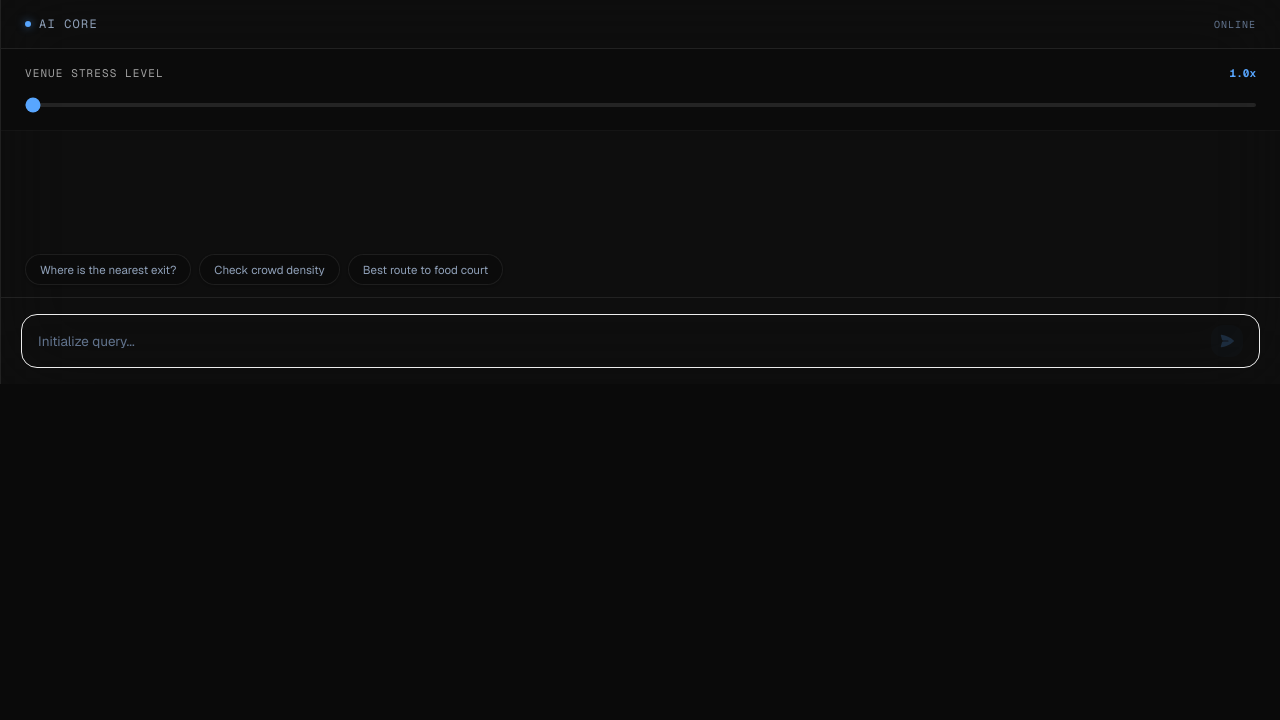
Scenario: ChatPanel Component › sanitizes input before sending
Type "<script>alert(1)</script>" into the field with placeholder "Initialize query..." at (618, 341), box [38,331,1199,351]
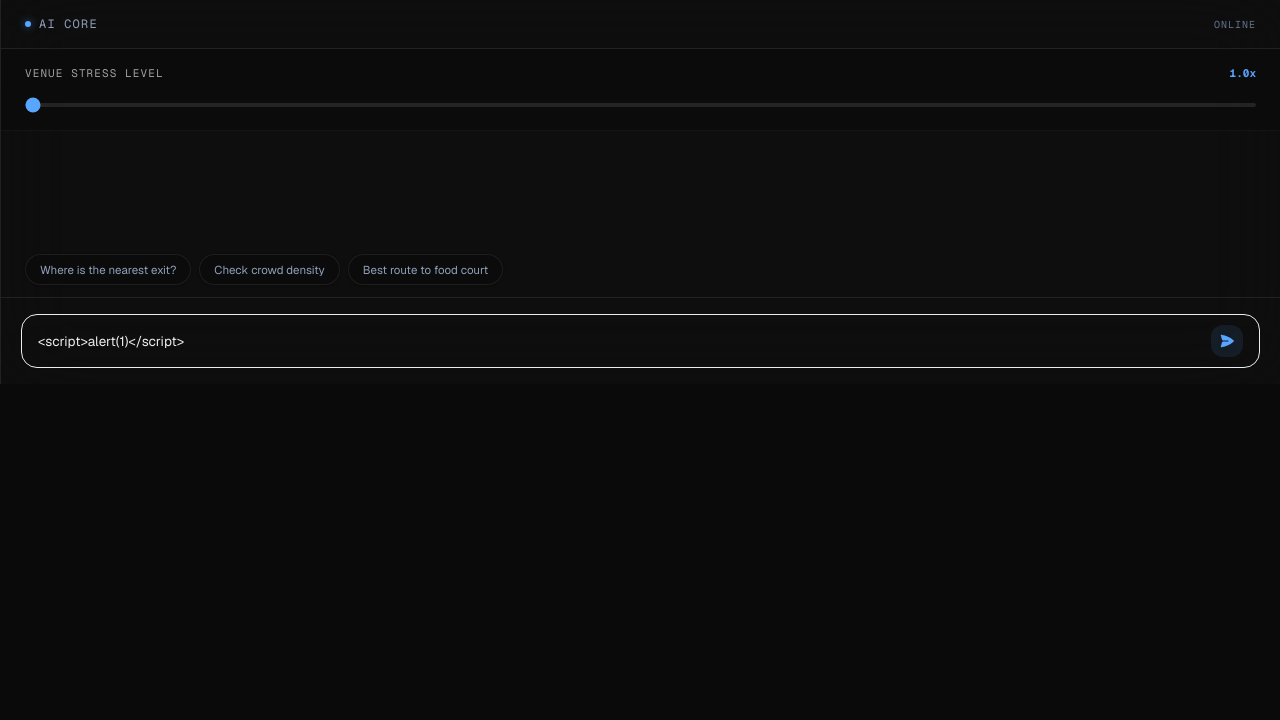
Click the button named "Send message" at (1227, 341), box [1211,325,1243,357]
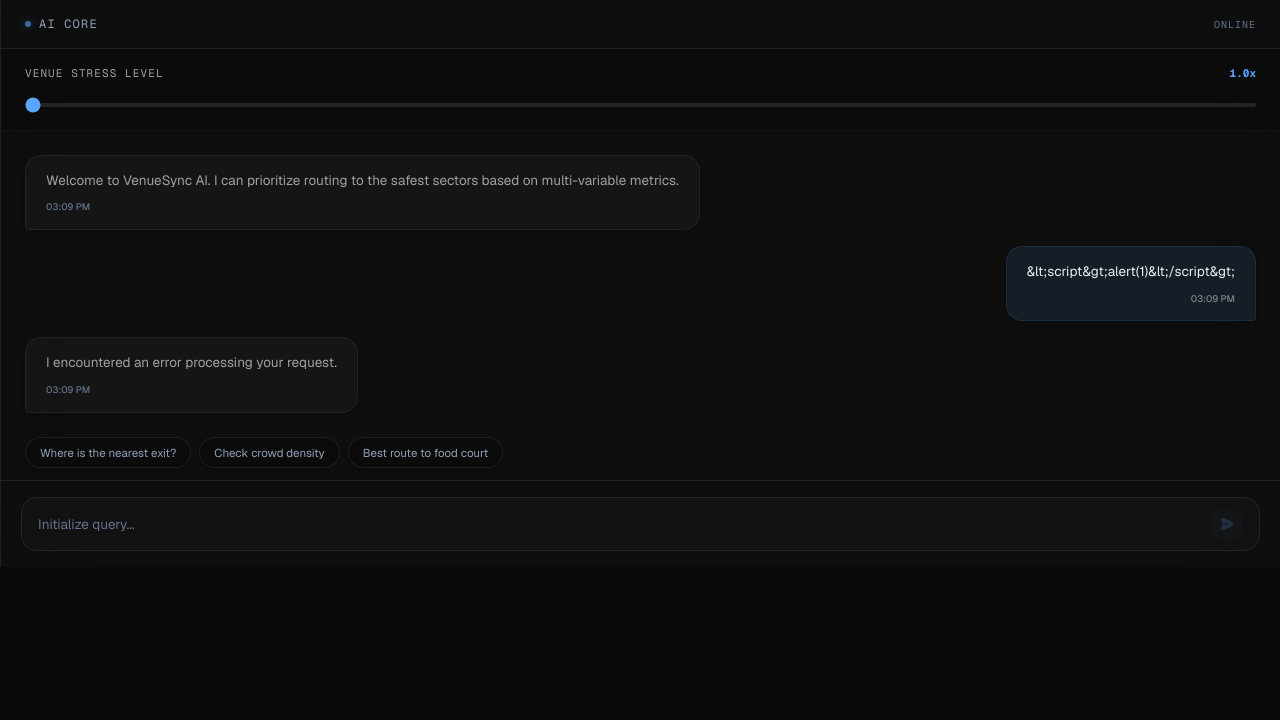
Now the text "&lt;script&gt;alert(1)&lt;/script&gt; 03:09 PM" is shown, box [1006,246,1256,321]
